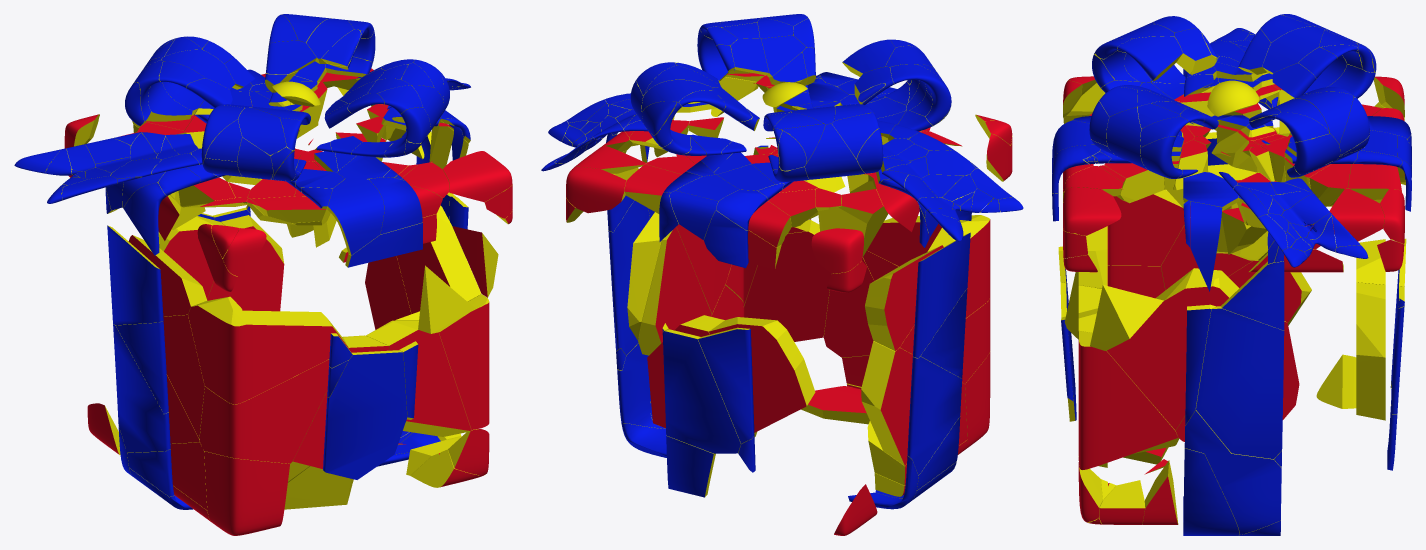
File: present-destructed.fbx
3 renders of one model, left to right at view 1: azimuth 30°, elevation 25°; view 2: azimuth 150°, elevation 25°; view 3: azimuth 270°, elevation 25°, orthographic. The views are drawn at different scales.
Parts seen in each view (by area): view 1: Sphere_cell.001, Sphere_cell.272, Sphere_cell.167, Sphere_cell.126, Sphere_cell.070, Sphere_cell.010, Sphere_cell.159, Sphere_cell.243, Sphere_cell.069, Sphere_cell.092, Sphere_cell.241, Sphere_cell.199 (+56 smaller); view 2: Sphere_cell.070, Sphere_cell.123, Sphere_cell.026, Sphere_cell.052, Sphere_cell.135, Sphere_cell.001, Sphere_cell.159, Sphere_cell.243, Sphere_cell.019, Sphere_cell.240, Sphere_cell.224, Sphere_cell.262 (+58 smaller); view 3: Sphere_cell.224, Sphere_cell.069, Sphere_cell.010, Sphere_cell.001, Sphere_cell.016, Sphere_cell.092, Sphere_cell.033, Sphere_cell.028, Sphere_cell.013, Sphere_cell.062, Sphere_cell.080, Sphere_cell.072 (+77 smaller).
Boxes of the visible parts, x1,y1,x2,y2 form: Sphere_cell.001: (188,296,348,404); Sphere_cell.272: (323,350,407,479); Sphere_cell.167: (199,338,343,463); Sphere_cell.126: (204,451,289,535); Sphere_cell.070: (366,320,471,436); Sphere_cell.010: (439,294,489,429); Sphere_cell.159: (113,324,170,452); Sphere_cell.243: (107,225,163,325); Sphere_cell.069: (395,205,481,320); Sphere_cell.092: (207,215,284,311); Sphere_cell.241: (163,314,204,438); Sphere_cell.199: (327,179,384,255); Sphere_cell.070: (711,220,831,341); Sphere_cell.123: (662,329,741,453); Sphere_cell.026: (709,317,815,432); Sphere_cell.052: (638,227,711,355); Sphere_cell.135: (861,341,912,465); Sphere_cell.001: (867,215,990,317); Sphere_cell.159: (907,356,962,475); Sphere_cell.243: (913,232,970,358); Sphere_cell.019: (698,327,754,443); Sphere_cell.240: (865,245,943,351); Sphere_cell.224: (608,200,649,355); Sphere_cell.262: (823,257,874,357); Sphere_cell.224: (1196,306,1284,458); Sphere_cell.069: (1107,268,1239,430); Sphere_cell.010: (1078,331,1177,469); Sphere_cell.001: (1078,189,1184,287); Sphere_cell.016: (1204,453,1281,534); Sphere_cell.092: (1356,282,1385,420); Sphere_cell.033: (1183,448,1239,535); Sphere_cell.028: (1090,285,1163,350); Sphere_cell.013: (1221,261,1284,330); Sphere_cell.062: (1063,187,1121,235); Sphere_cell.080: (1185,304,1215,425); Sphere_cell.072: (1190,201,1222,291).
Bounding box in the file's own units: 346 × 292 × 234.
